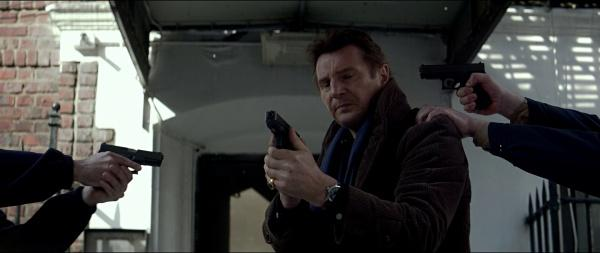Gun: (420, 62, 489, 112), (98, 142, 163, 174), (265, 110, 300, 151)
